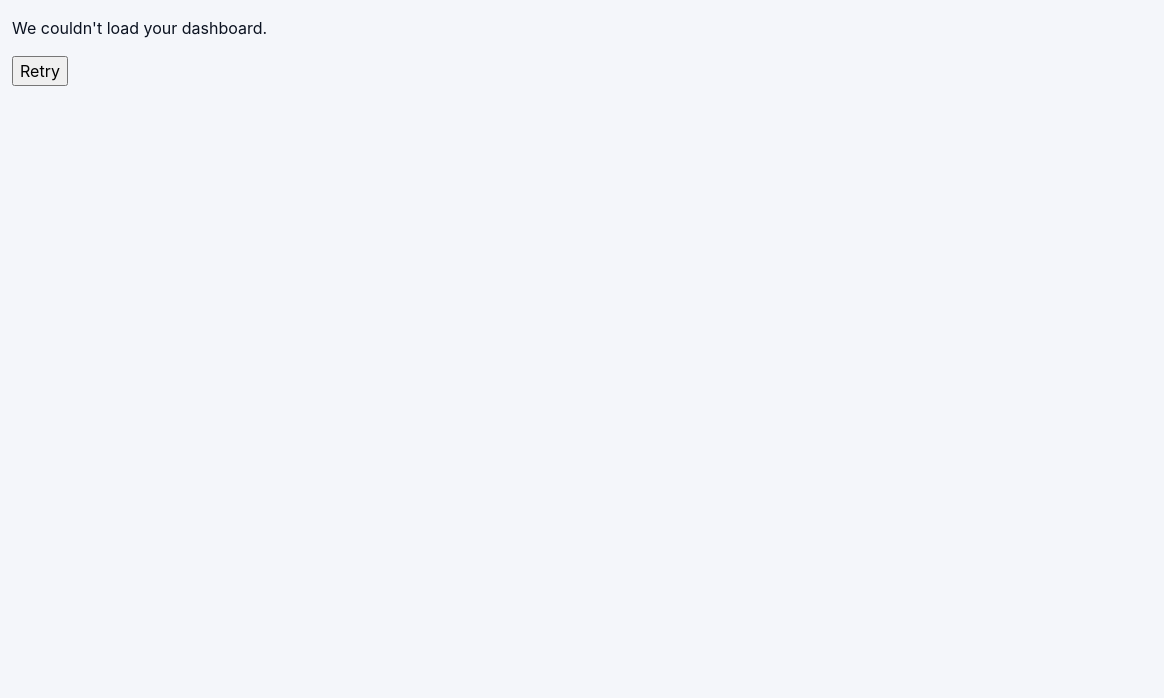
it: dashboard › loads the dashboard after retrying a failed request
Expected: the message shows "We couldn't load your dashboard.", [12,18,267,38]
Click the button "Retry".
click(40, 71)  # box [12,56,68,86]
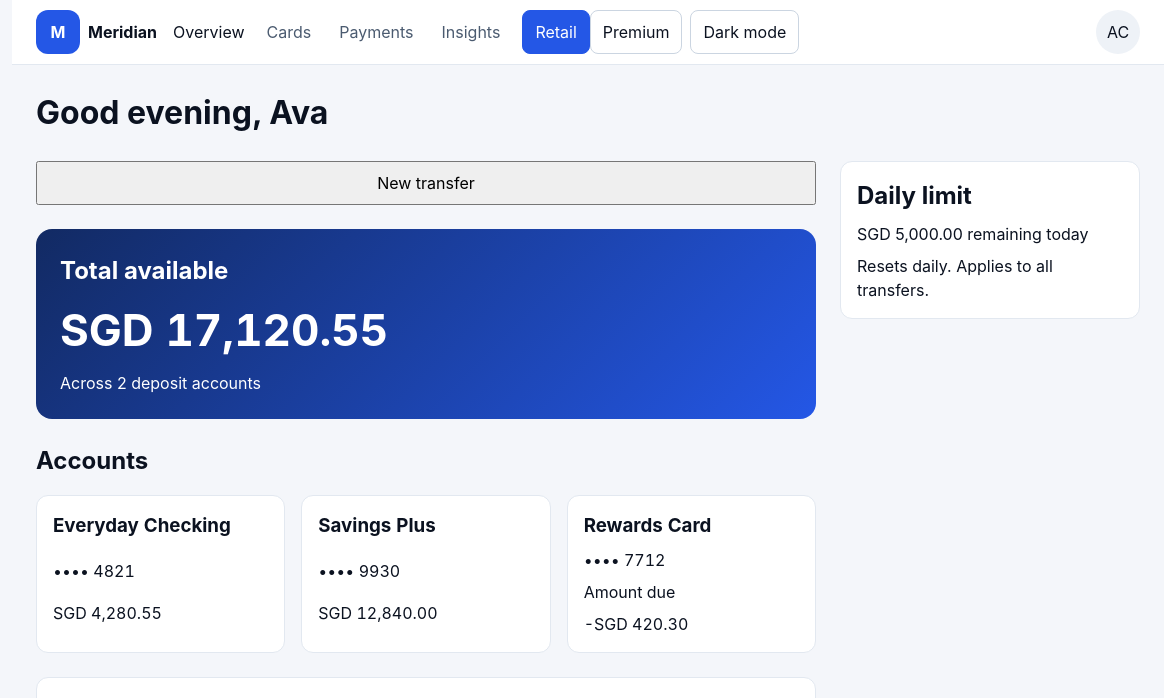
Expected: the heading "Good evening, Ava" is shown, [36,93,328,132]
Expected: the heading "Everyday Checking" is shown, [53,514,231,537]
